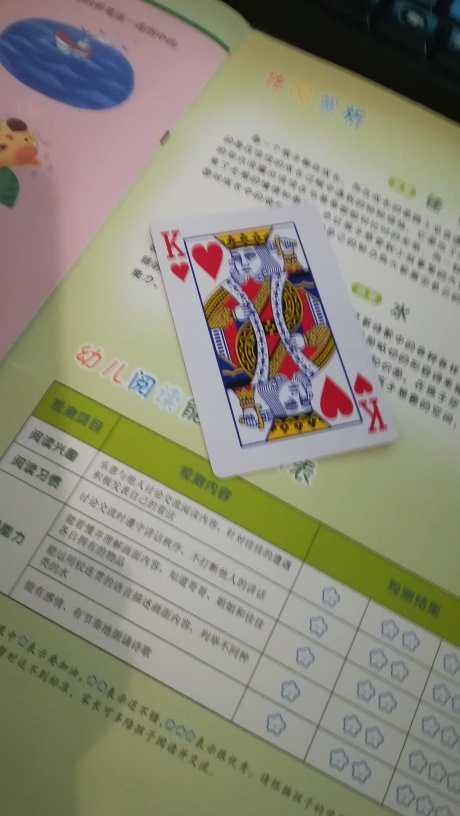hx k: (145, 196, 399, 479)
